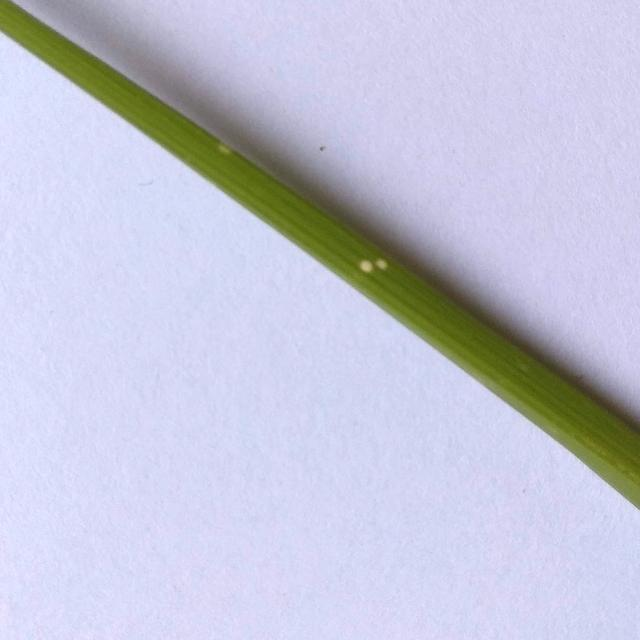Blast: (361, 256, 388, 274), (218, 144, 231, 158)
